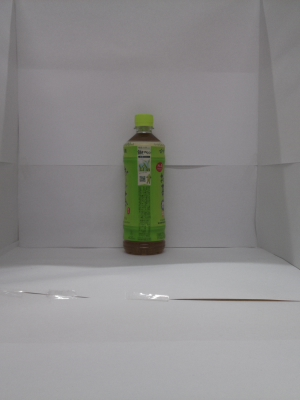おーいお茶: (114, 109, 174, 261)
